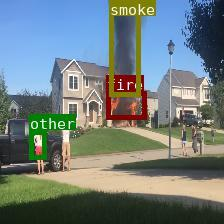fire: (106, 90, 145, 119)
other: (29, 129, 46, 158)
smoke: (108, 0, 139, 95)
